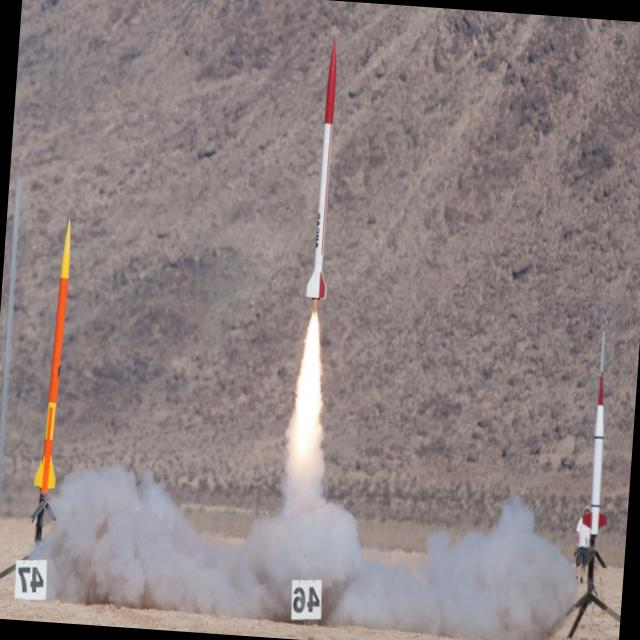rocket: (297, 26, 351, 462), (21, 218, 79, 537), (581, 335, 616, 563)
